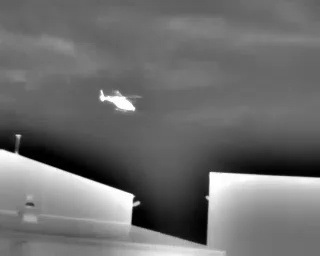HELICOPTER: (97, 83, 146, 121)
